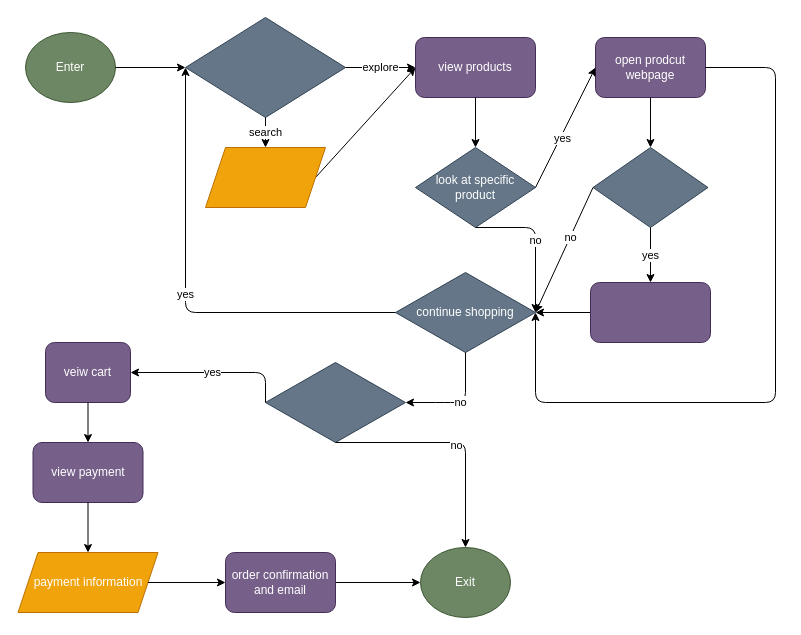
This 801x635 diagram has some shape labels left out. The box of each missing label's shape, as (x1, y1, x2, y2) in pixels:
add to cart: (592, 146, 708, 228)
added to cart confirmation: (590, 282, 710, 342)
checkout: (264, 362, 406, 442)
input item: (204, 146, 326, 208)
search or explore: (184, 16, 346, 118)
